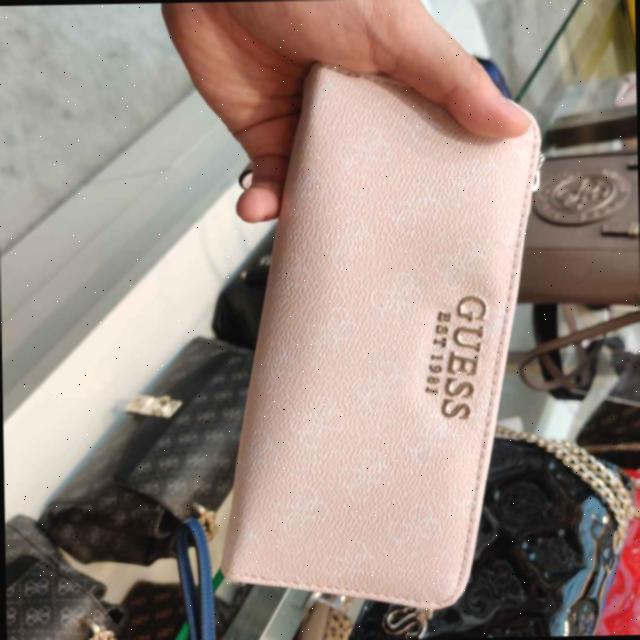Handbag: (210, 62, 567, 637)
